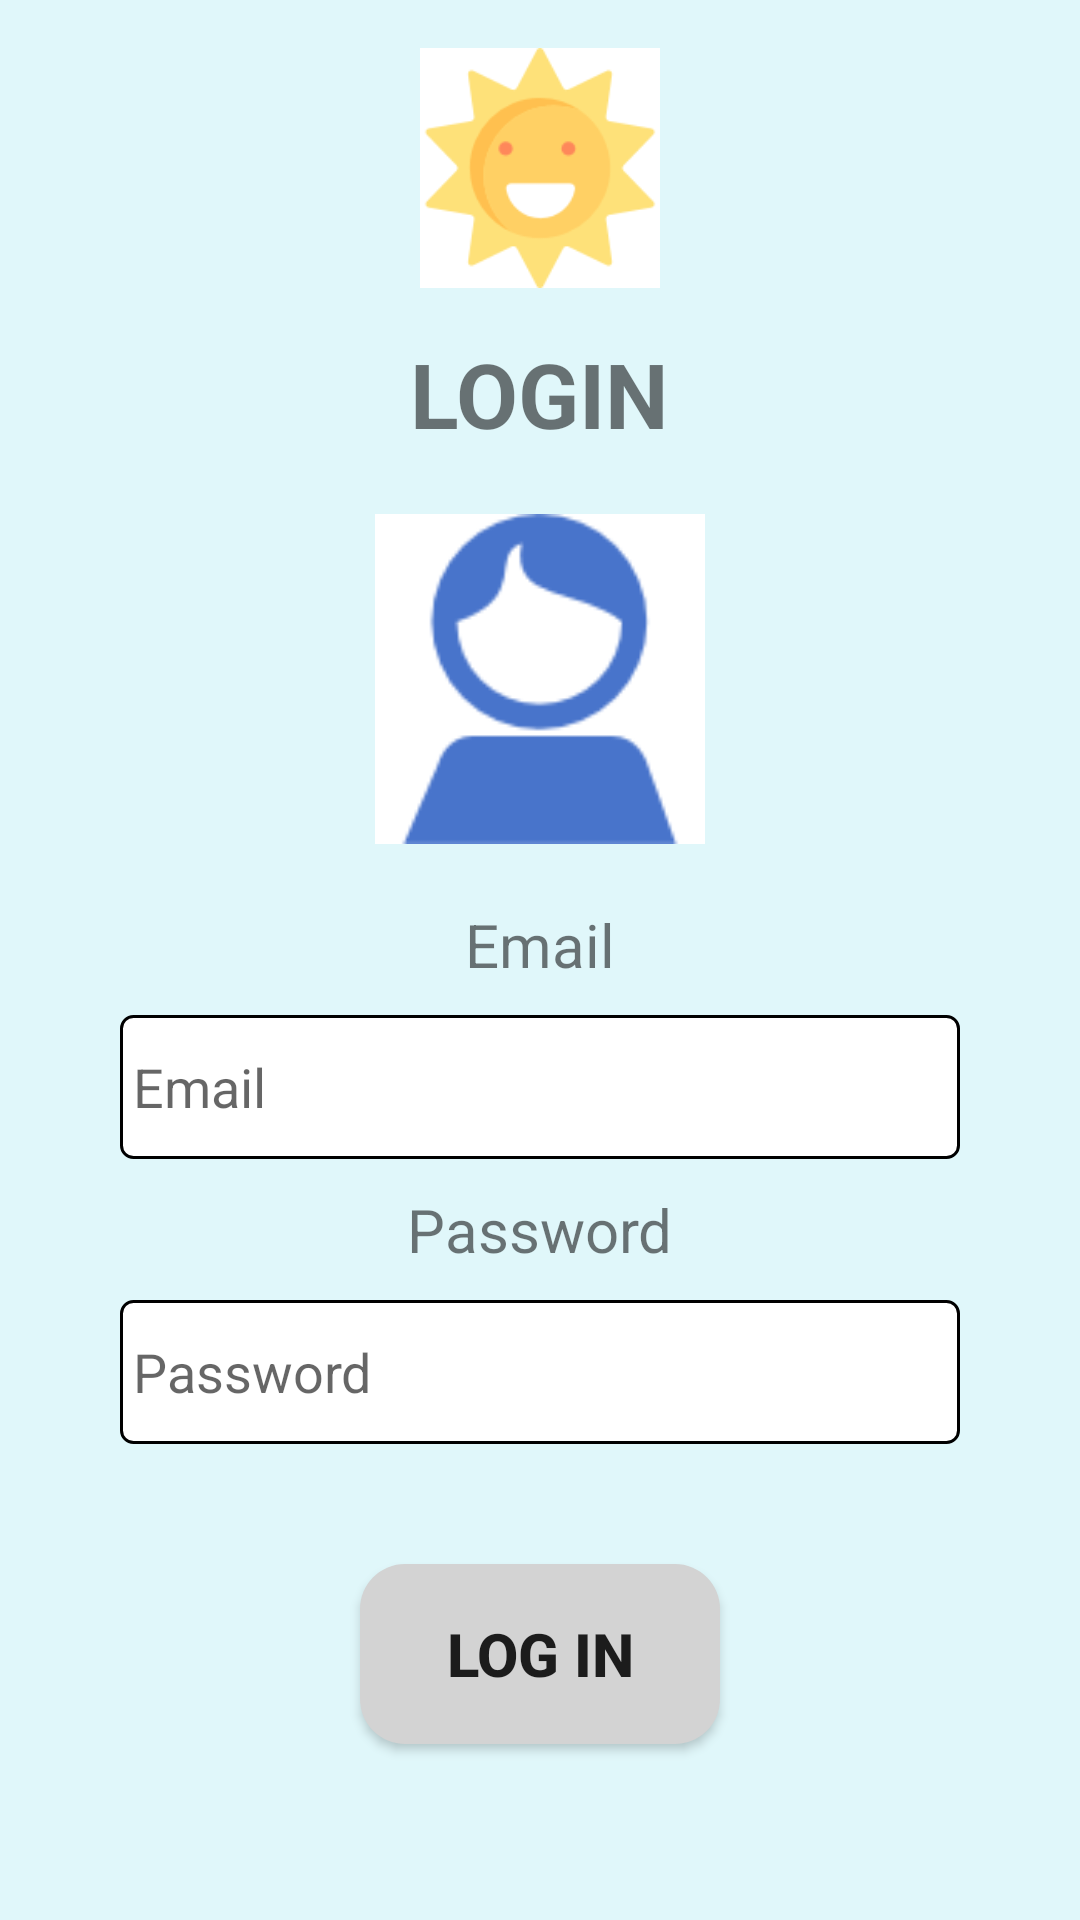

Icon click points for this 1080*1920 phone screenshot, format point (x, y):
people: point (540, 679)
sun: point (540, 168)
